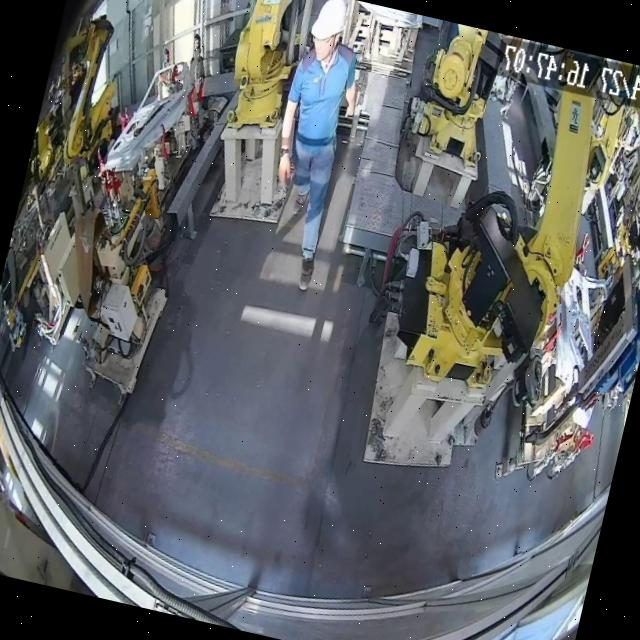Person: (245, 0, 379, 293)
